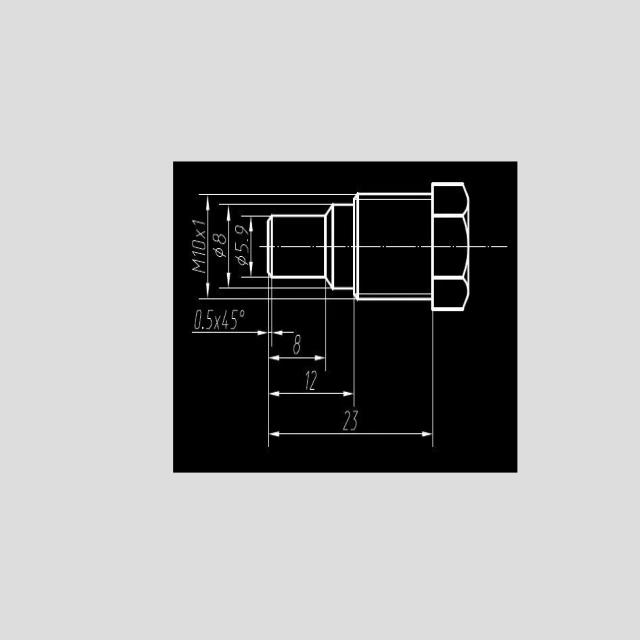marking_line: (268, 431, 433, 440), (205, 195, 212, 296), (270, 389, 354, 396), (268, 353, 324, 363), (189, 331, 268, 338), (227, 206, 233, 287), (247, 217, 255, 275), (275, 330, 299, 335)
numeric: (190, 219, 207, 259), (232, 223, 251, 254), (195, 308, 213, 330), (343, 409, 360, 432), (222, 308, 238, 330), (304, 371, 317, 392), (292, 331, 303, 353), (214, 230, 226, 248)
special_symbol: (235, 255, 248, 269), (213, 246, 225, 260), (239, 308, 248, 320)
